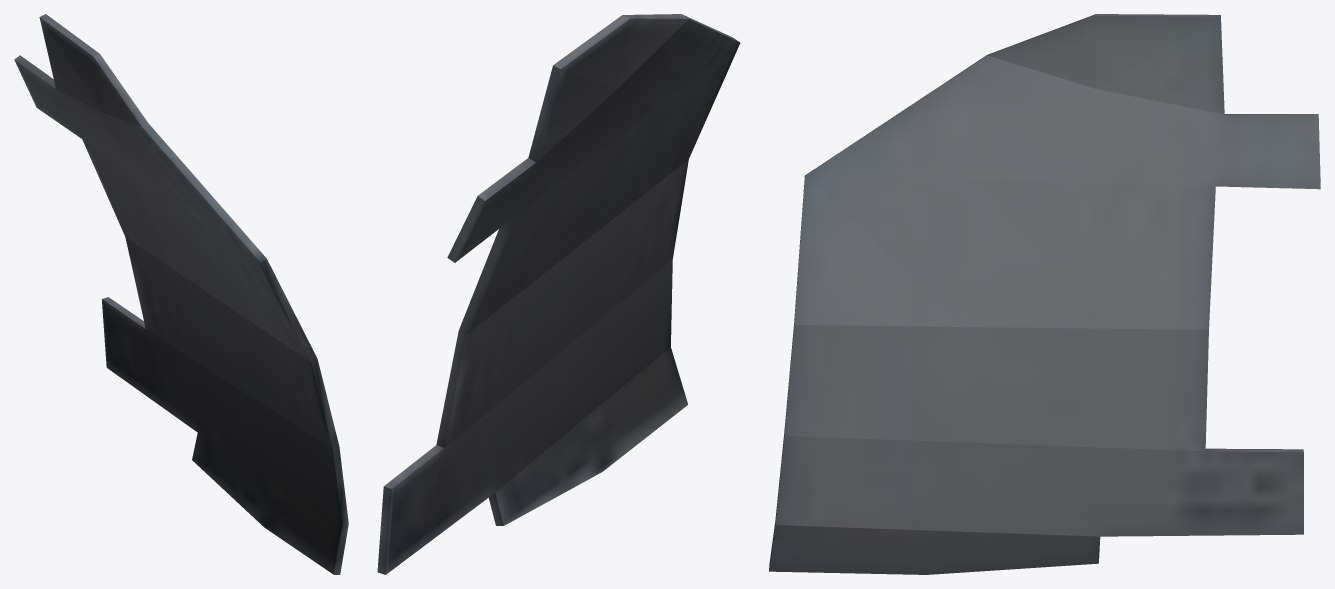
Rendered from trainArBCarosserie2.fbx.
The picture shows the model from 3 angles, left to right: view 1: azimuth 30°, elevation 25°; view 2: azimuth 150°, elevation 25°; view 3: azimuth 270°, elevation 25°; orthographic projection. The views are drawn at different scales.
Parts seen in each view (by area): view 1: ShapeIndexedFaceSet; view 2: ShapeIndexedFaceSet; view 3: ShapeIndexedFaceSet.
Boxes of the visible parts, left/top/right/bottom form: ShapeIndexedFaceSet: left=14, top=14, right=348, bottom=574; ShapeIndexedFaceSet: left=377, top=14, right=740, bottom=574; ShapeIndexedFaceSet: left=769, top=14, right=1320, bottom=574.
Bounding box in the file's own units: 0.1744 × 0.6436 × 0.637.
